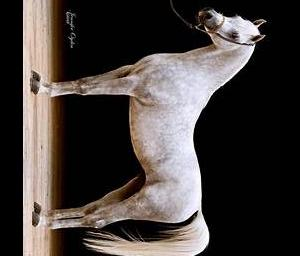horse: (29, 7, 267, 256)
